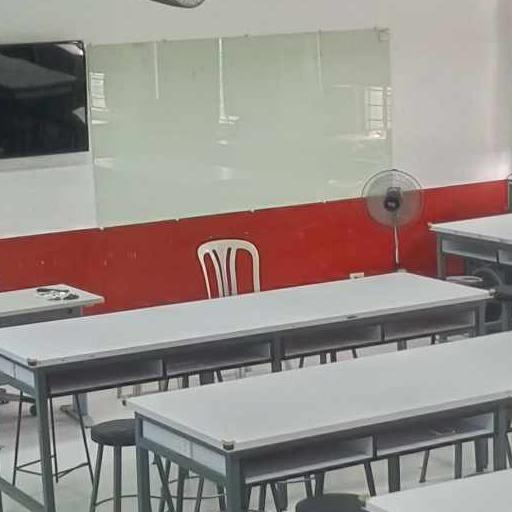Fan: (349, 170, 435, 230)
